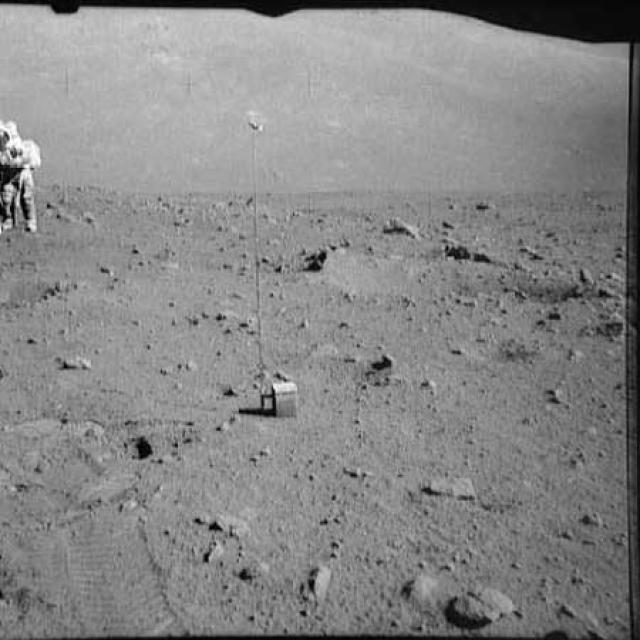artifact: (224, 97, 313, 436)
crater: (332, 246, 612, 317), (0, 265, 66, 315), (245, 240, 331, 278)
rock: (401, 568, 516, 632), (418, 466, 481, 506), (374, 208, 428, 250), (364, 343, 401, 369)
